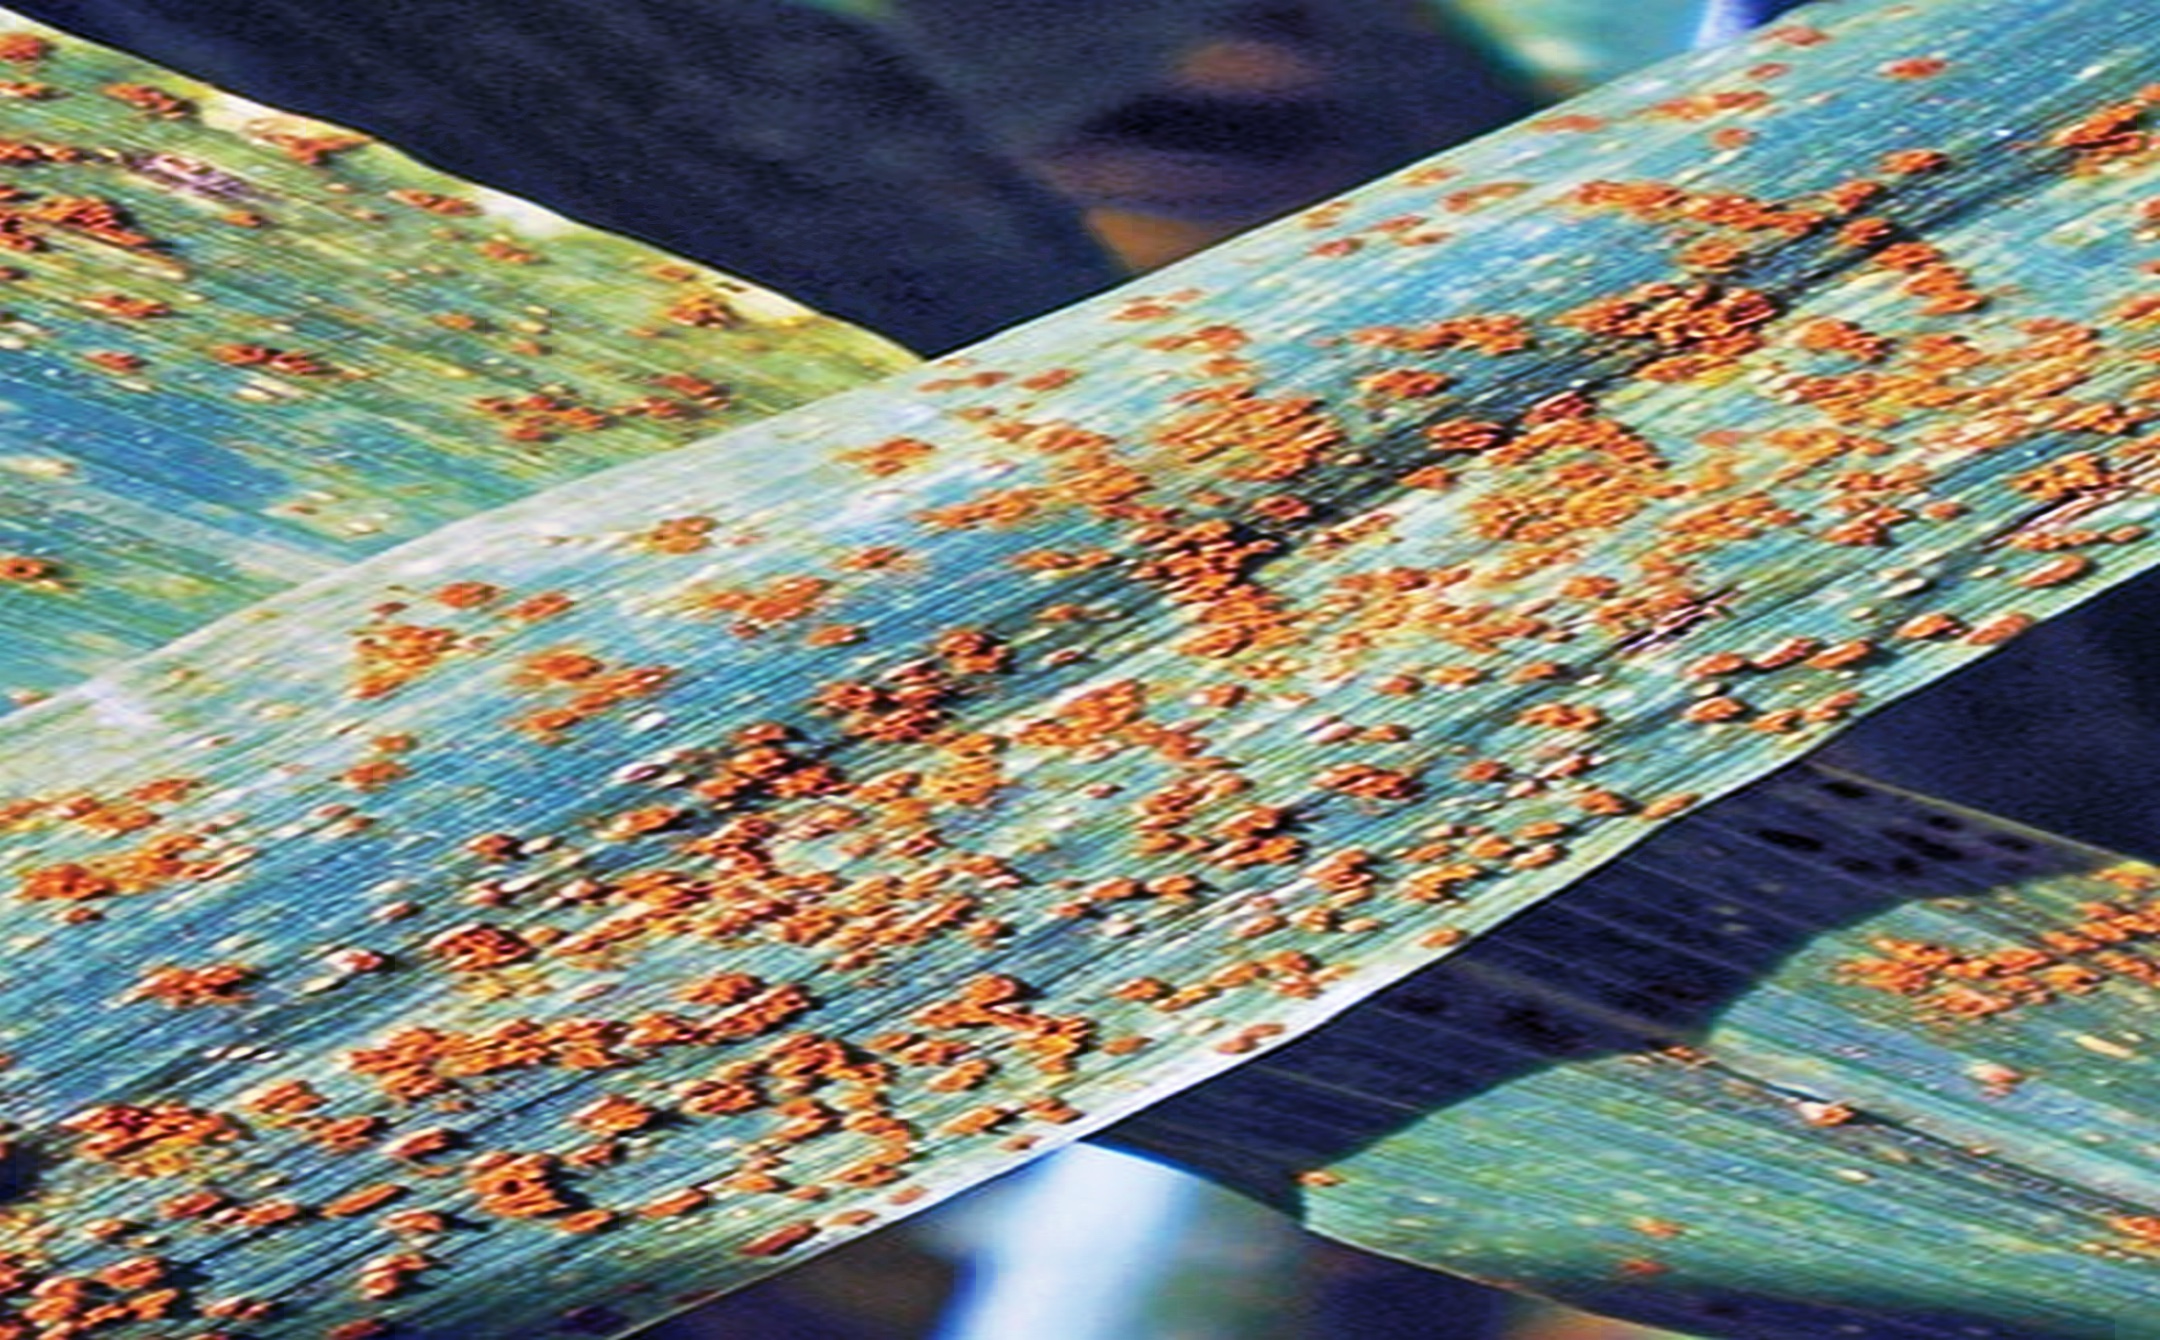Leaf Rust: (412, 205, 1847, 1283)
